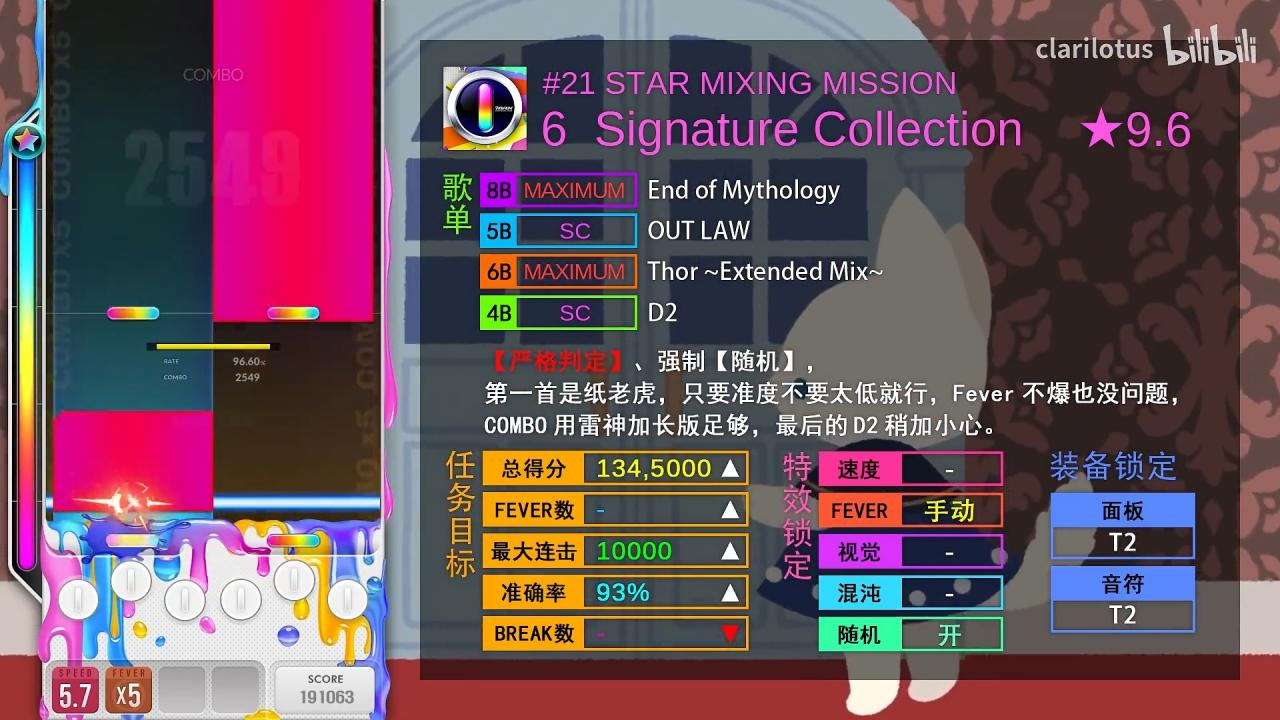note: (267, 306, 320, 320), (107, 307, 160, 320)
xend: (53, 411, 214, 426)
xstart: (213, 305, 374, 322)
